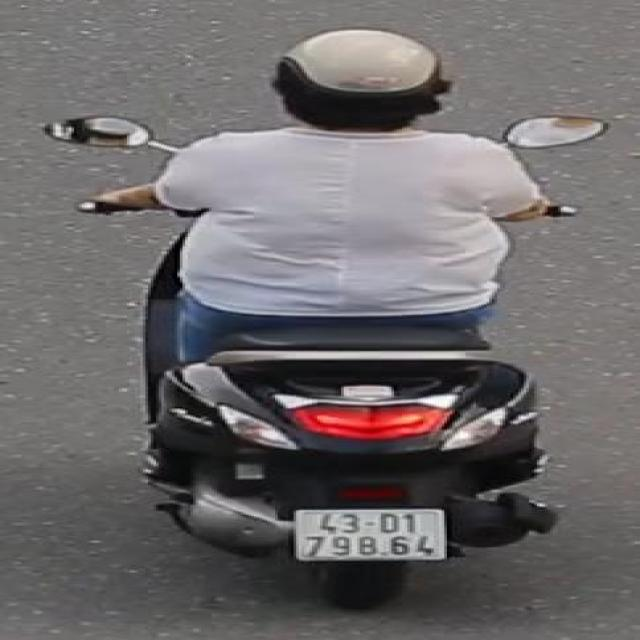LP: (288, 505, 452, 567)
helmet: (267, 24, 452, 138)
